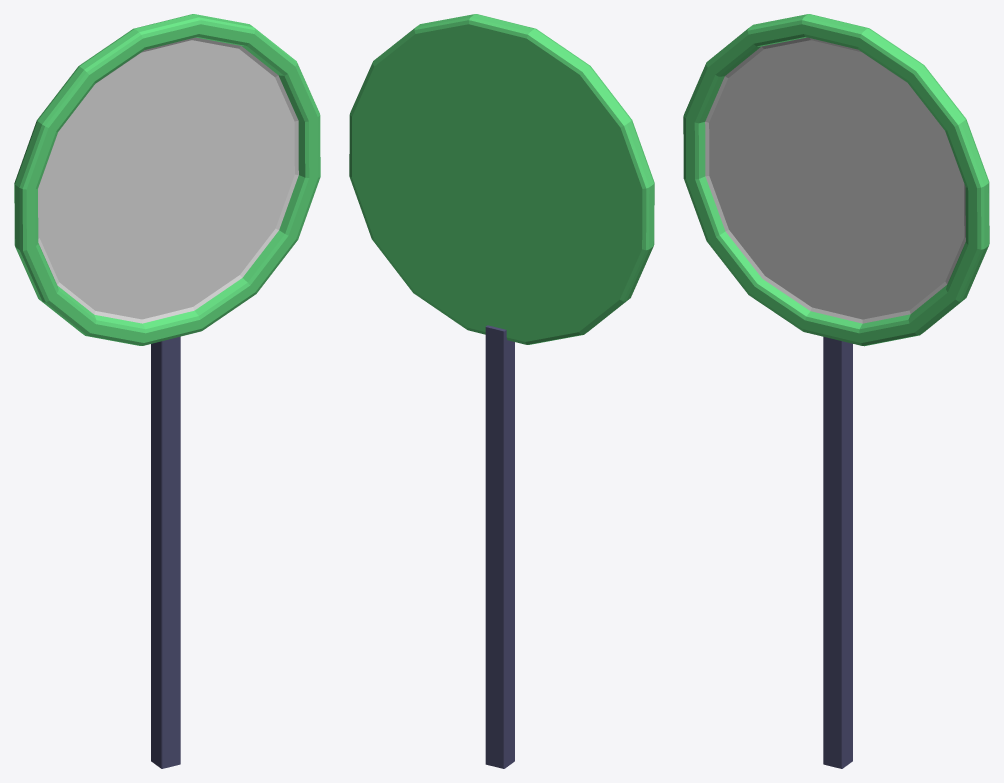
File: finalsceneTabela.fbx
The picture shows the model from 3 angles, left to right: view 1: azimuth 30°, elevation 25°; view 2: azimuth 150°, elevation 25°; view 3: azimuth 330°, elevation 25°; orthographic projection.
Parts seen in each view (by area): view 1: Circle.006, Cube.003; view 2: Circle.006, Cube.003; view 3: Circle.006, Cube.003.
Boxes of the visible parts, x1,y1,x2,y2 form: Circle.006: [14, 14, 320, 345]; Cube.003: [151, 336, 180, 768]; Circle.006: [349, 14, 654, 344]; Cube.003: [485, 325, 514, 768]; Circle.006: [683, 14, 989, 346]; Cube.003: [823, 336, 852, 768].
Size of the model in its own units: 61.88 by 146 by 4.31.
